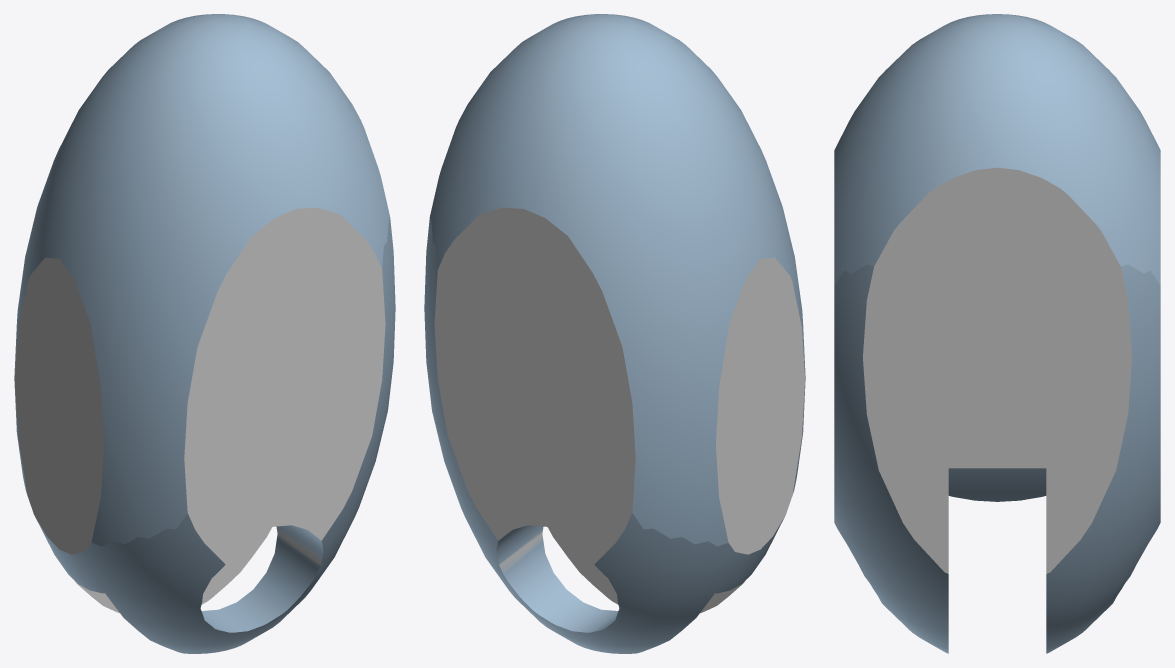
File: endPhalange5x3.glb
The picture shows the model from 3 angles, left to right: view 1: azimuth 30°, elevation 25°; view 2: azimuth 150°, elevation 25°; view 3: azimuth 270°, elevation 25°; orthographic projection. The views are drawn at different scales.
Bounding box in the file's own units: 0.3 × 0.6388 × 0.3.
